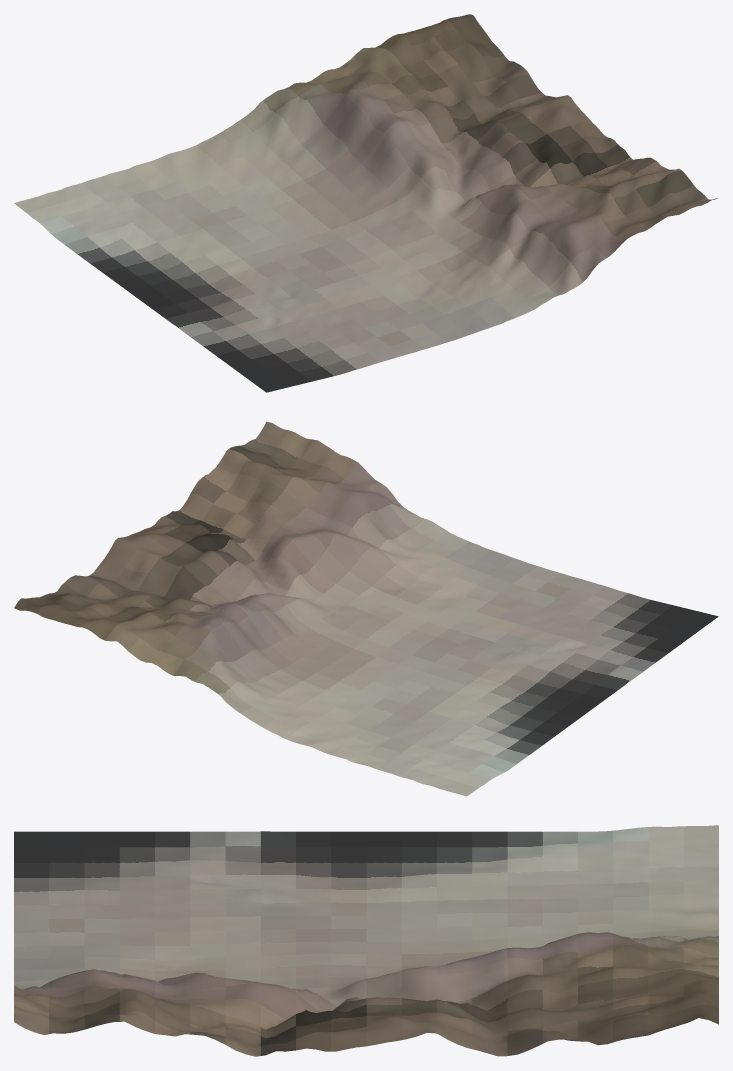
File: antofagasta.gltf
3 views of the same model, one above another, from view 1: azimuth 30°, elevation 25°; view 2: azimuth 150°, elevation 25°; view 3: azimuth 270°, elevation 25° (orthographic). The views are drawn at different scales.
Parts seen in each view (by area): view 1: TerrainNode.001; view 2: TerrainNode.001; view 3: TerrainNode.001.
Boxes of the visible parts, x1,y1,x2,y2 form: TerrainNode.001: (14,14,717,392); TerrainNode.001: (14,421,718,796); TerrainNode.001: (14,825,718,1056).
Size of the model in its own units: 7.5 by 1.38 by 7.25.
Materials: 1 (1 with a texture image).
